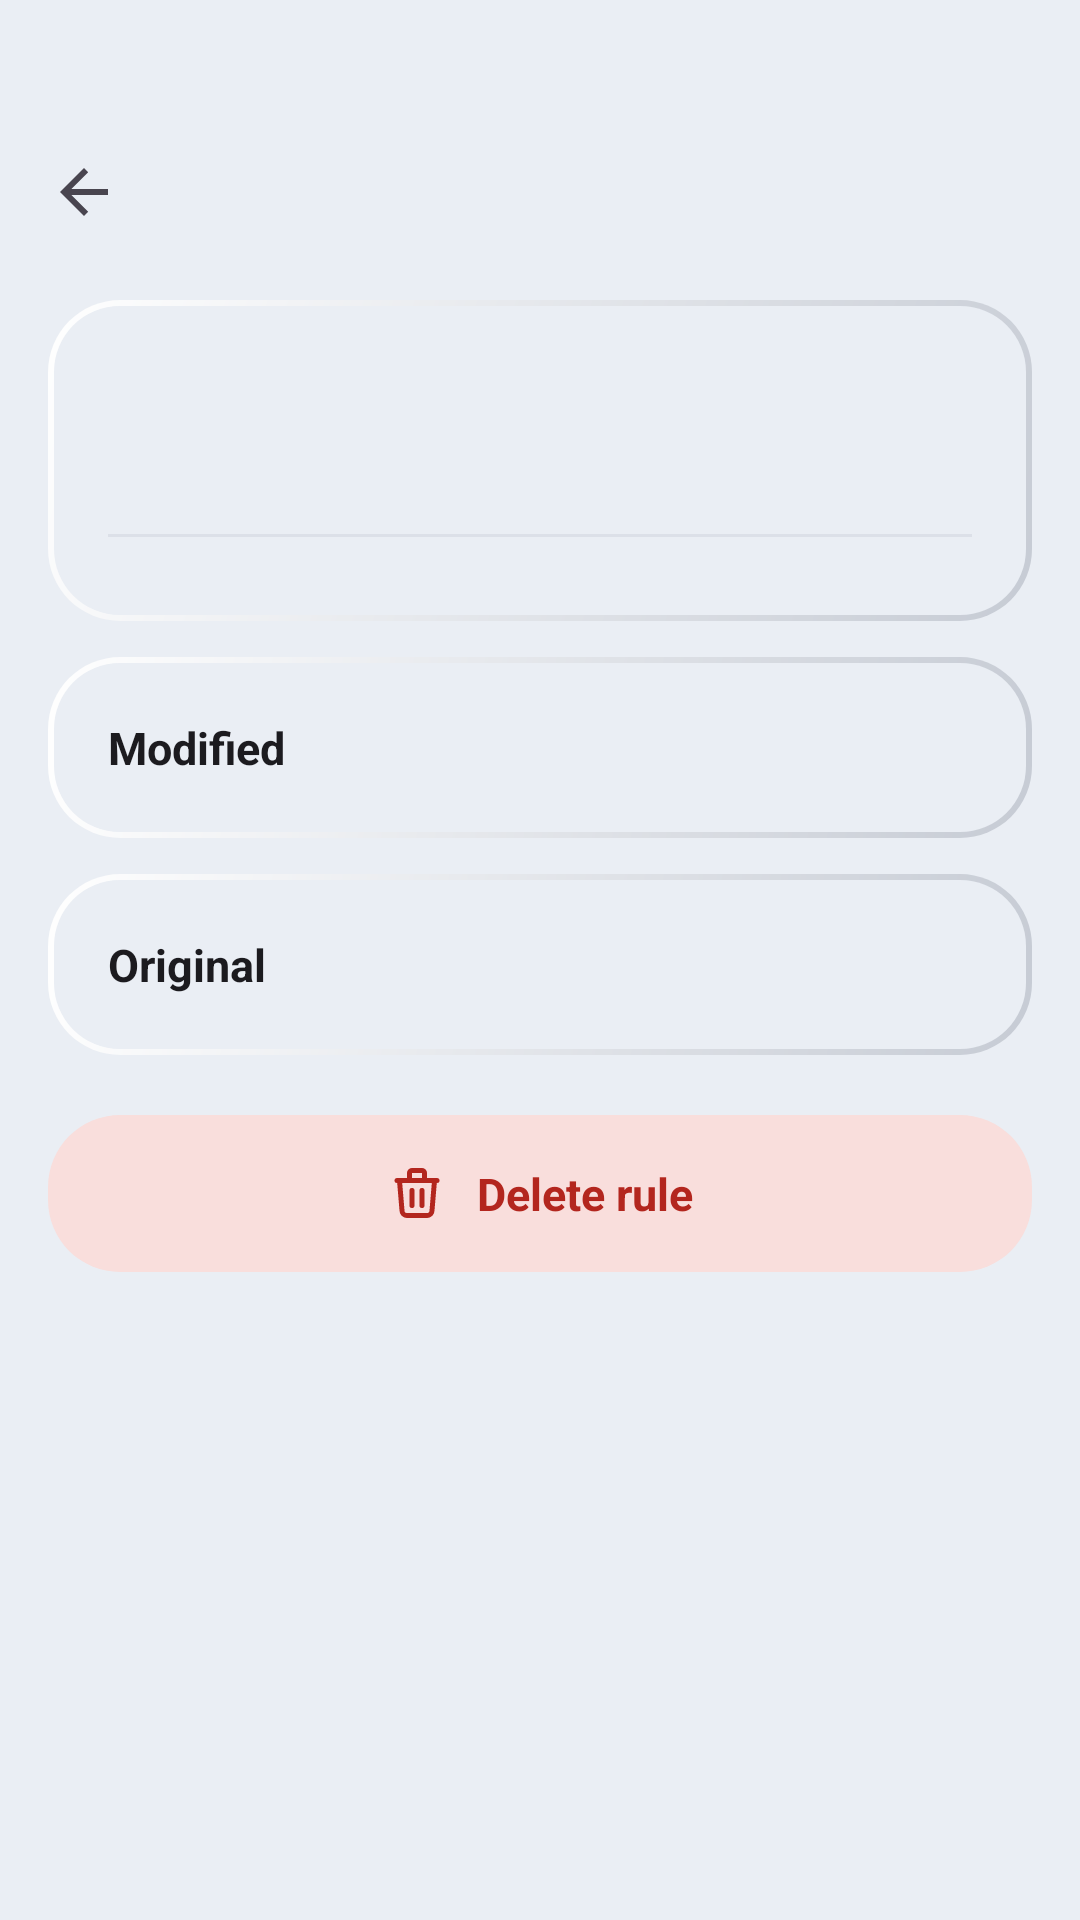

Locate icon controls on the screen. Image size 1080px×1920px, boxes as (left=x1, top=y1, right=x2, bottom=y2).
trash: (left=394, top=1168, right=440, bottom=1218)
